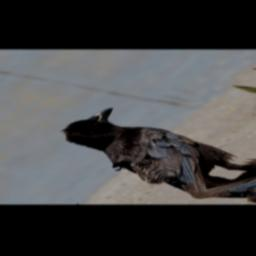Crow: (20, 103, 256, 199)
